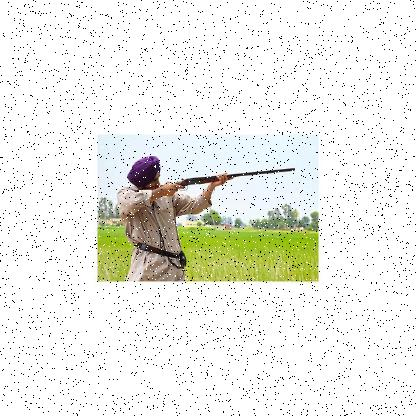gun: (131, 164, 294, 208)
